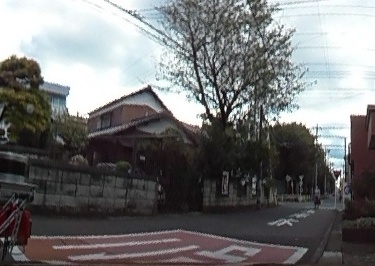person: (312, 184, 320, 205)
